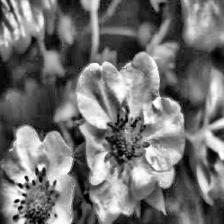Blossom Blight: (11, 165, 64, 224)
